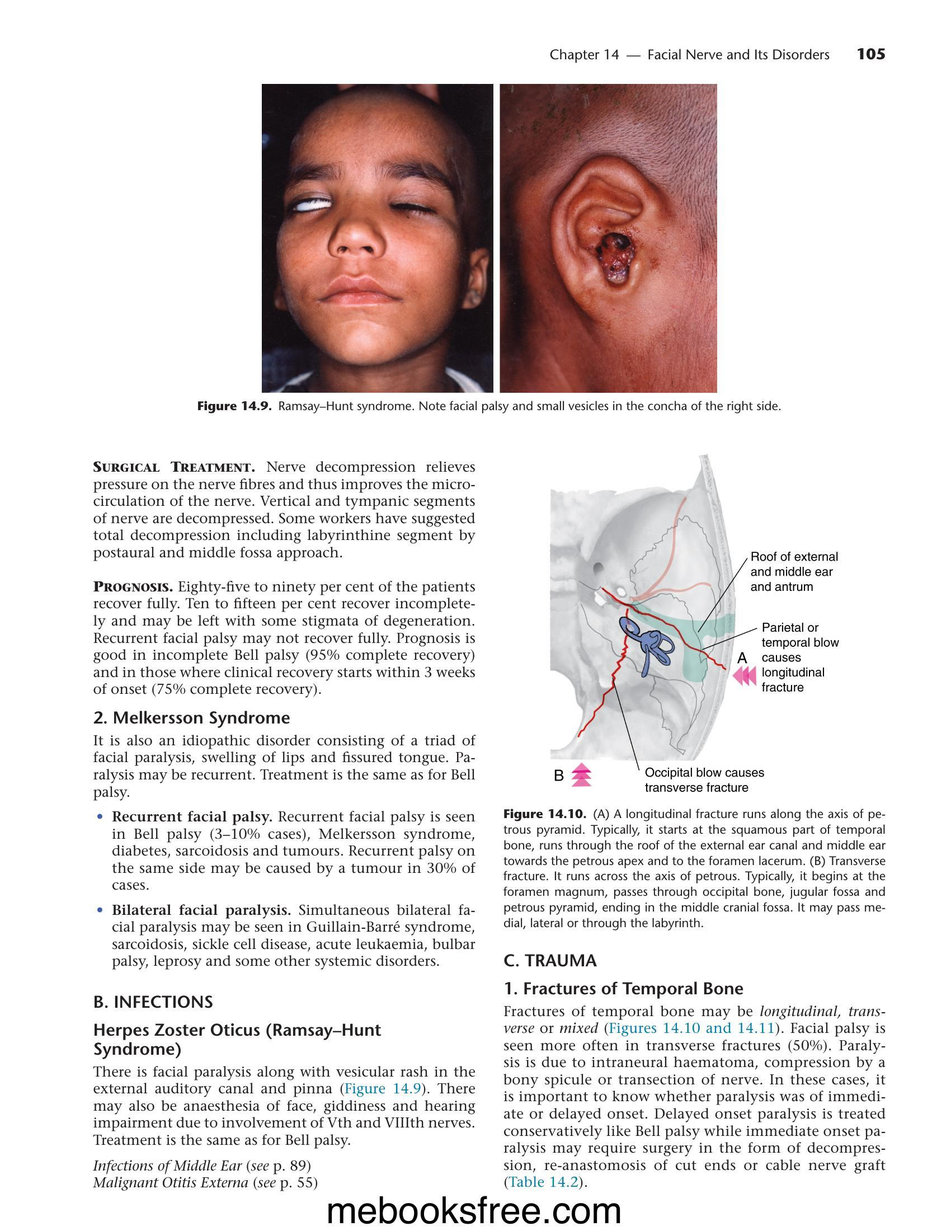caption: (503, 807, 886, 932), (197, 399, 781, 415), (736, 650, 749, 665), (553, 768, 565, 782)
header: (549, 48, 831, 64)
image: (511, 436, 878, 805), (261, 83, 494, 394), (499, 83, 717, 392)
list: (95, 809, 477, 972)
sub-section-heading: (93, 1021, 384, 1059), (503, 980, 744, 1000), (92, 709, 291, 728), (93, 993, 213, 1009), (503, 952, 597, 968)
text: (91, 459, 477, 700), (502, 1004, 887, 1190), (92, 1065, 476, 1192), (92, 732, 478, 802)
